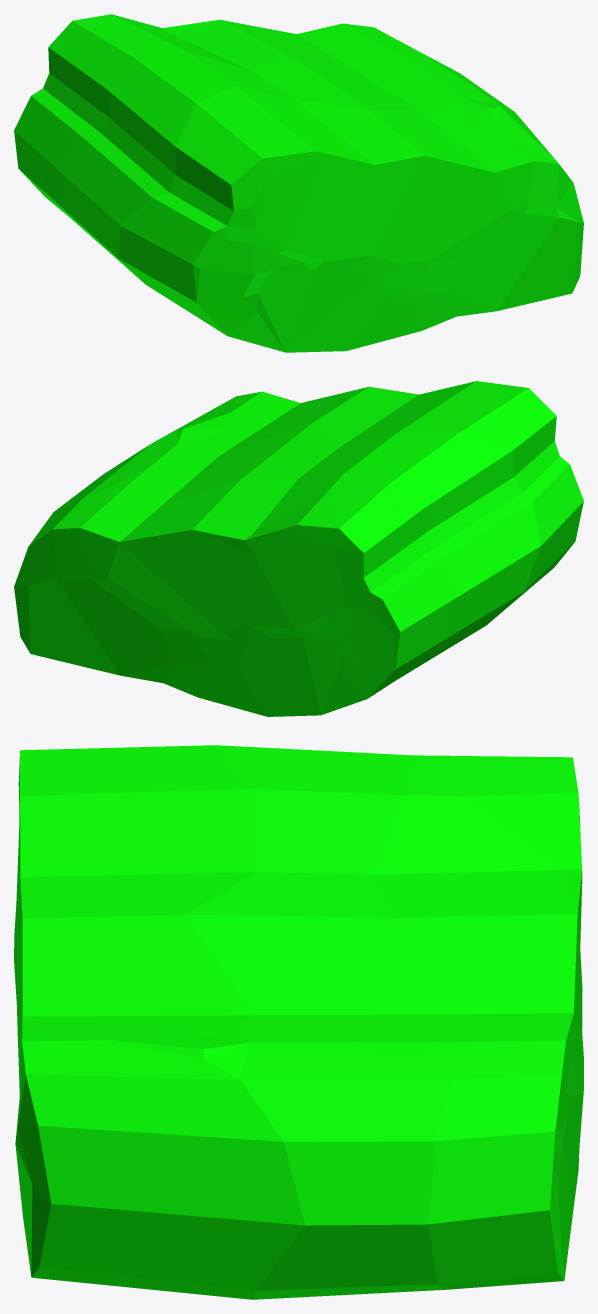
File: SM_Beef_Chunk.fbx
3 views of the same model, one above another, from view 1: azimuth 30°, elevation 25°; view 2: azimuth 150°, elevation 25°; view 3: azimuth 270°, elevation 25° (orthographic). The views are drawn at different scales.
Parts seen in each view (by area): view 1: beef-chunk; view 2: beef-chunk; view 3: beef-chunk.
Part boxes in pixels (left/top/right/bottom): beef-chunk: left=14, top=14, right=583, bottom=352; beef-chunk: left=14, top=381, right=583, bottom=716; beef-chunk: left=14, top=745, right=583, bottom=1299.
Size of the model in its own units: 0.3629 by 0.1758 by 0.2832.
